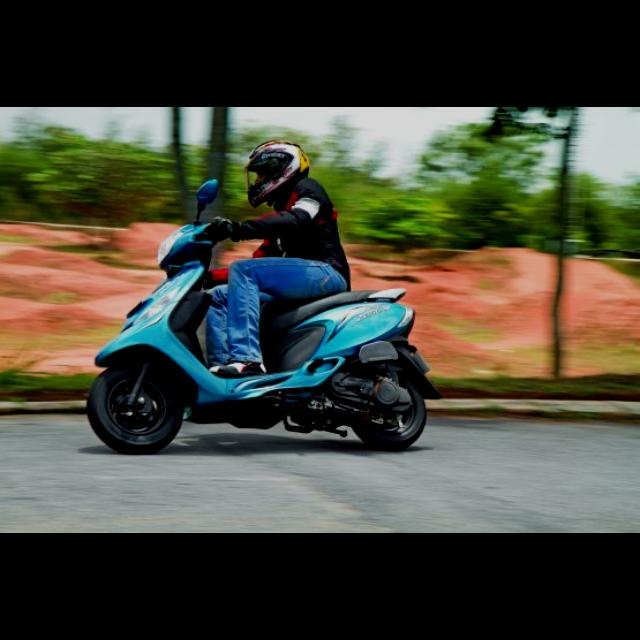With Helmet: (237, 136, 317, 210)
